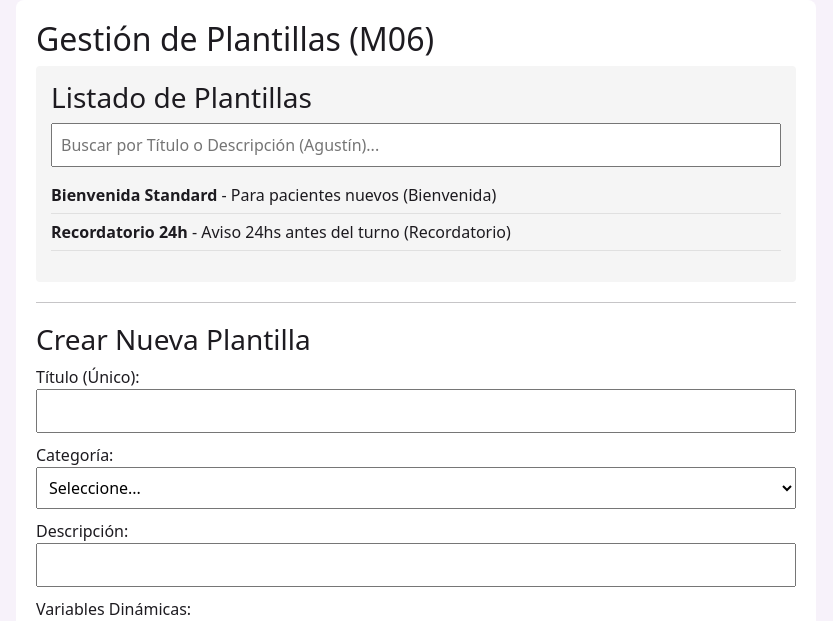
Test: AgendaYA - M06 Búsqueda dinámica de plantillas (Agustín Aguilera) › Escenario 1: Filtrado reactivo por coincidencia en el título
This screenshot has width=833, height=621.
Expected: the number of list items with test id "template-item" is 2, [51,177,781,214]; [51,214,781,251]
Note: Escribir el término de búsqueda coincidente con el título de la primera plantilla
In the field with test id "search-template-input": (416, 145) [51,123,781,167], type "Bienvenida"
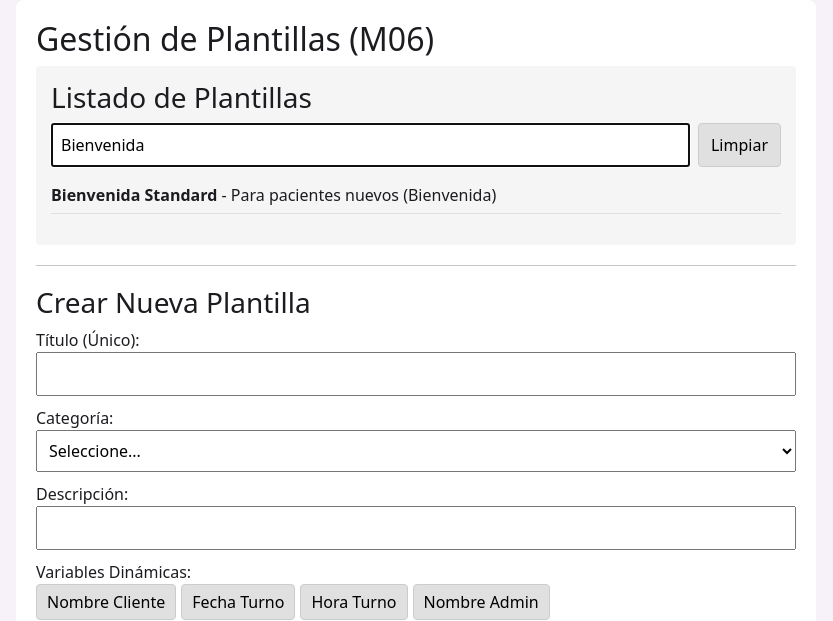
Expected: the text with test id "template-item" reads "Bienvenida Standard", [51,184,217,206]
Result: the number of list items with test id "template-item" is 1 at [51,177,781,214]
Result: the text "Recordatorio 24h" is gone
